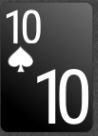Spade: (7, 46, 34, 72)
